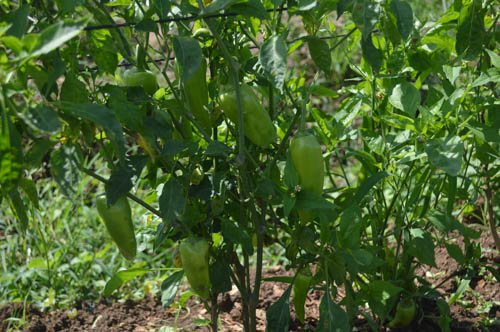ChiliPepper: (219, 84, 273, 149), (291, 136, 324, 230), (97, 195, 136, 260), (183, 58, 213, 141), (181, 240, 212, 296), (124, 71, 160, 105), (290, 273, 311, 325), (387, 304, 420, 329)
